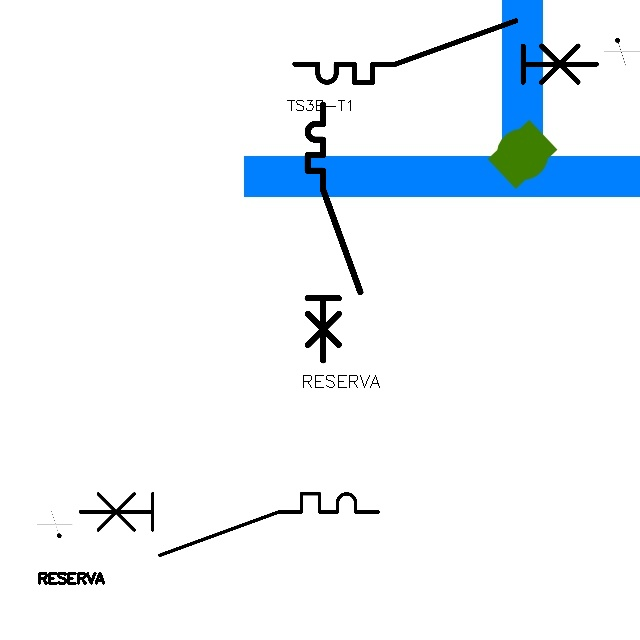interruptor_termomagnetico: (287, 13, 604, 90), (72, 486, 386, 562), (301, 98, 367, 367)
